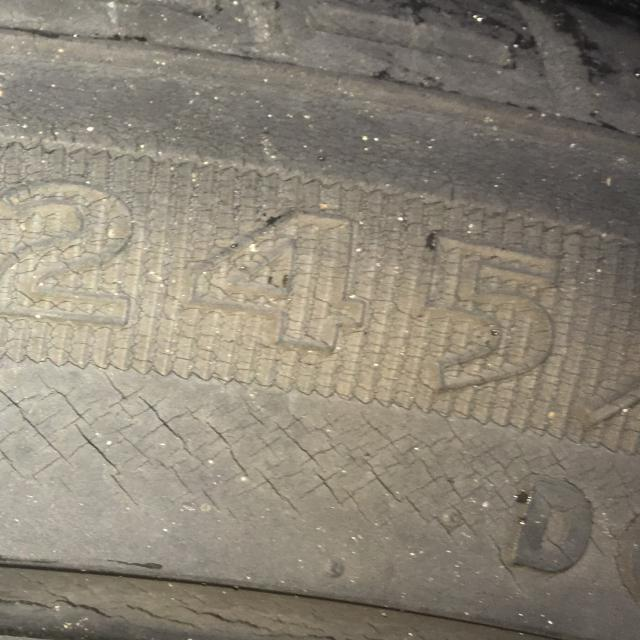Cracks: (0, 79, 640, 640)
